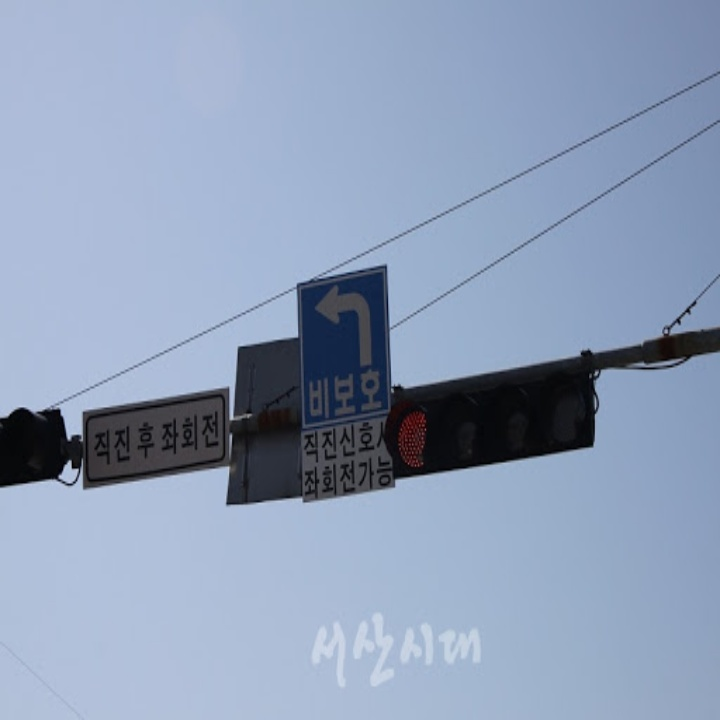left: (307, 280, 379, 368)
